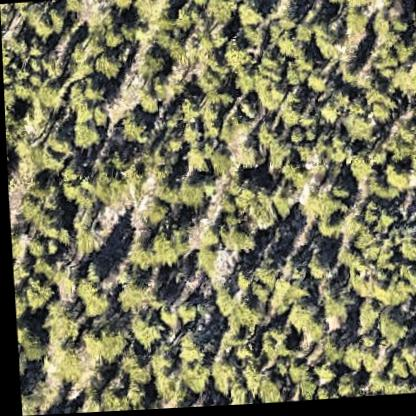tree-top: (170, 338, 211, 395), (351, 228, 400, 273), (39, 301, 81, 345), (251, 191, 289, 238), (83, 323, 125, 365), (297, 184, 338, 227), (141, 225, 181, 268), (253, 325, 294, 366), (67, 213, 102, 260), (311, 282, 350, 323), (71, 278, 109, 320), (370, 312, 410, 350), (125, 311, 163, 350), (14, 274, 55, 310), (281, 299, 319, 337), (385, 270, 416, 316), (249, 79, 287, 116), (171, 330, 205, 370), (204, 358, 237, 399), (341, 113, 378, 149), (349, 273, 387, 307), (13, 321, 44, 362), (230, 137, 264, 173), (175, 363, 209, 398), (221, 224, 255, 258), (128, 0, 169, 28), (386, 64, 416, 102), (67, 117, 102, 149), (24, 5, 56, 40), (117, 111, 149, 145), (191, 68, 225, 100), (367, 95, 399, 128), (137, 48, 169, 80), (202, 0, 236, 30), (303, 252, 333, 286), (32, 79, 64, 110), (221, 40, 251, 73), (175, 177, 204, 210), (234, 0, 265, 30), (274, 98, 304, 129), (179, 144, 209, 174), (91, 52, 122, 81), (347, 155, 376, 184), (382, 159, 409, 190), (118, 278, 147, 306), (351, 301, 379, 329), (240, 23, 267, 52), (175, 95, 201, 125), (191, 245, 217, 275), (43, 128, 71, 155), (264, 141, 292, 168), (345, 8, 372, 35), (254, 375, 282, 401), (302, 71, 331, 96), (195, 102, 220, 131), (21, 232, 46, 260), (316, 338, 344, 363), (309, 364, 336, 389), (134, 87, 159, 114), (40, 53, 65, 80), (80, 77, 105, 104), (172, 300, 199, 325), (146, 349, 171, 376), (329, 375, 354, 401), (231, 301, 257, 326), (152, 177, 177, 203), (120, 382, 146, 407), (376, 208, 401, 234), (97, 384, 121, 410), (391, 42, 415, 68), (284, 362, 310, 386), (45, 7, 68, 34), (386, 358, 409, 385), (291, 25, 316, 49), (99, 25, 123, 50), (212, 286, 235, 312), (26, 174, 48, 201), (396, 238, 416, 267), (160, 134, 184, 158), (254, 264, 277, 289), (316, 102, 339, 127), (124, 358, 147, 382), (178, 121, 200, 146), (337, 64, 360, 87), (60, 161, 84, 183), (294, 143, 315, 166), (11, 79, 33, 100), (391, 18, 411, 40), (4, 103, 20, 130), (321, 0, 354, 10), (380, 0, 407, 5)
